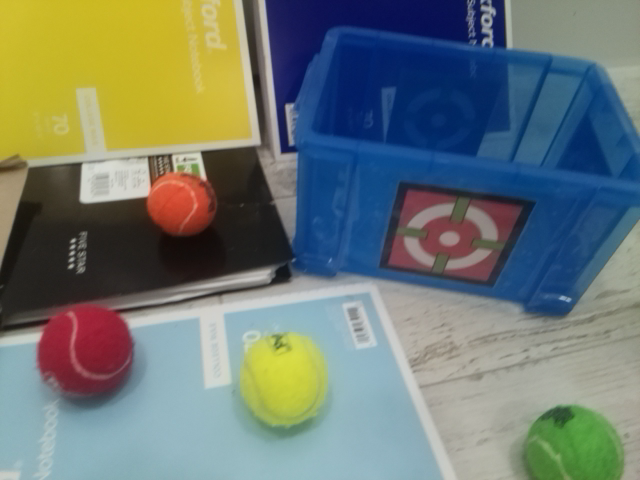drop-bin: (378, 179, 536, 289)
green-ball: (523, 404, 626, 480)
orange-ball: (146, 171, 218, 239)
red-ball: (37, 304, 134, 401)
yellow-ball: (239, 332, 329, 428)
